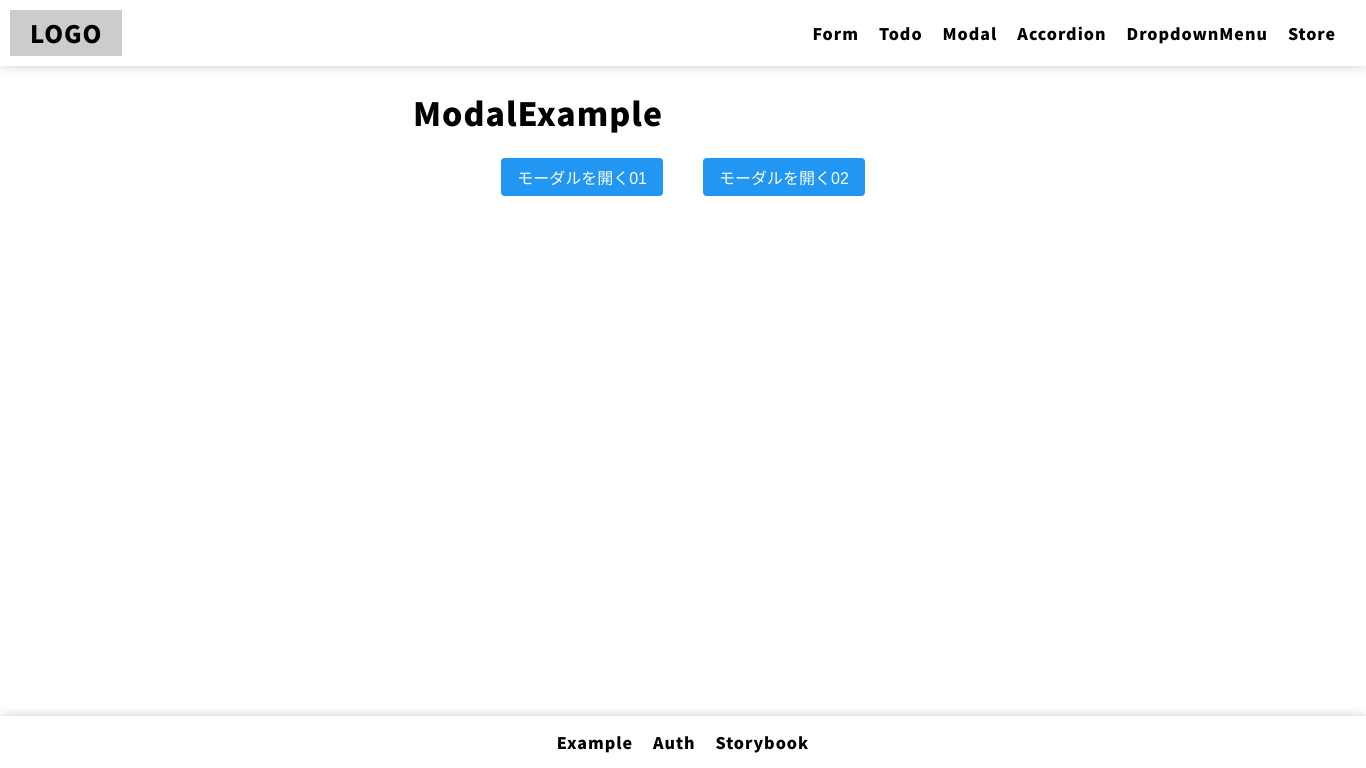
Test: ModalExample page › renders and opens and closes a modal
The image size is (1366, 768).
Expected: the heading "ModalExample" is shown, 413,89 -> 663,135
Click the button "モーダルを開く01" at (582, 177), box 501,158 -> 663,196
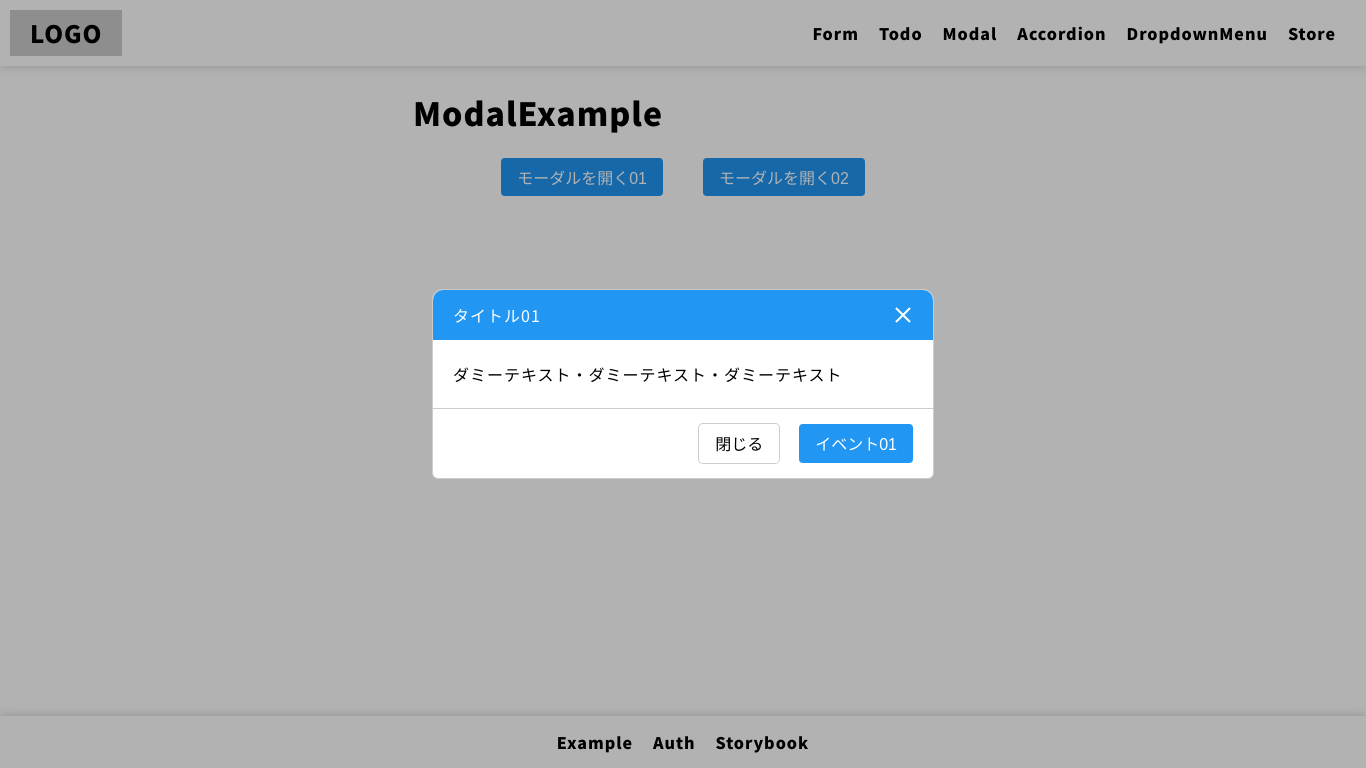
Expected: the text "タイトル01" is shown, 453,301 -> 541,329
Click the button "閉じる" at (739, 444), box 699,424 -> 779,463
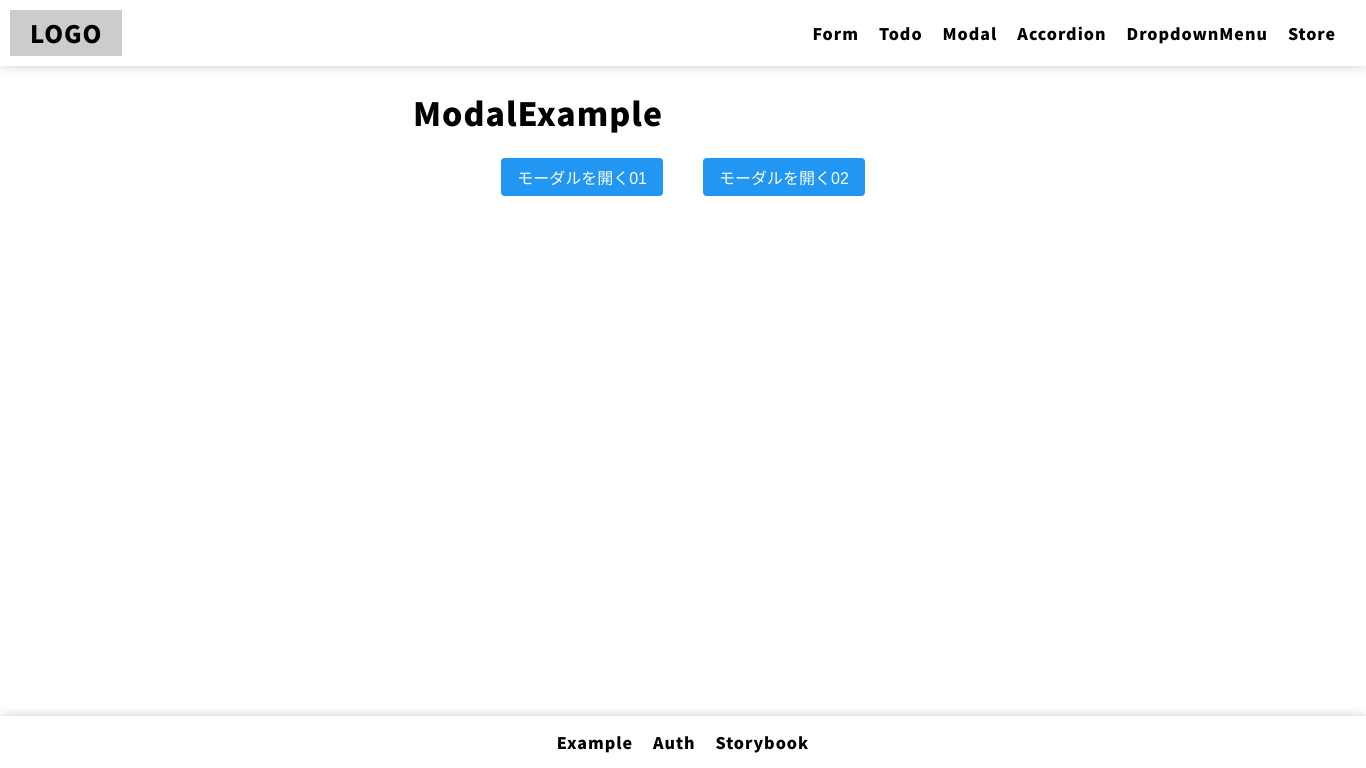
Expected: the text "タイトル01" is gone
